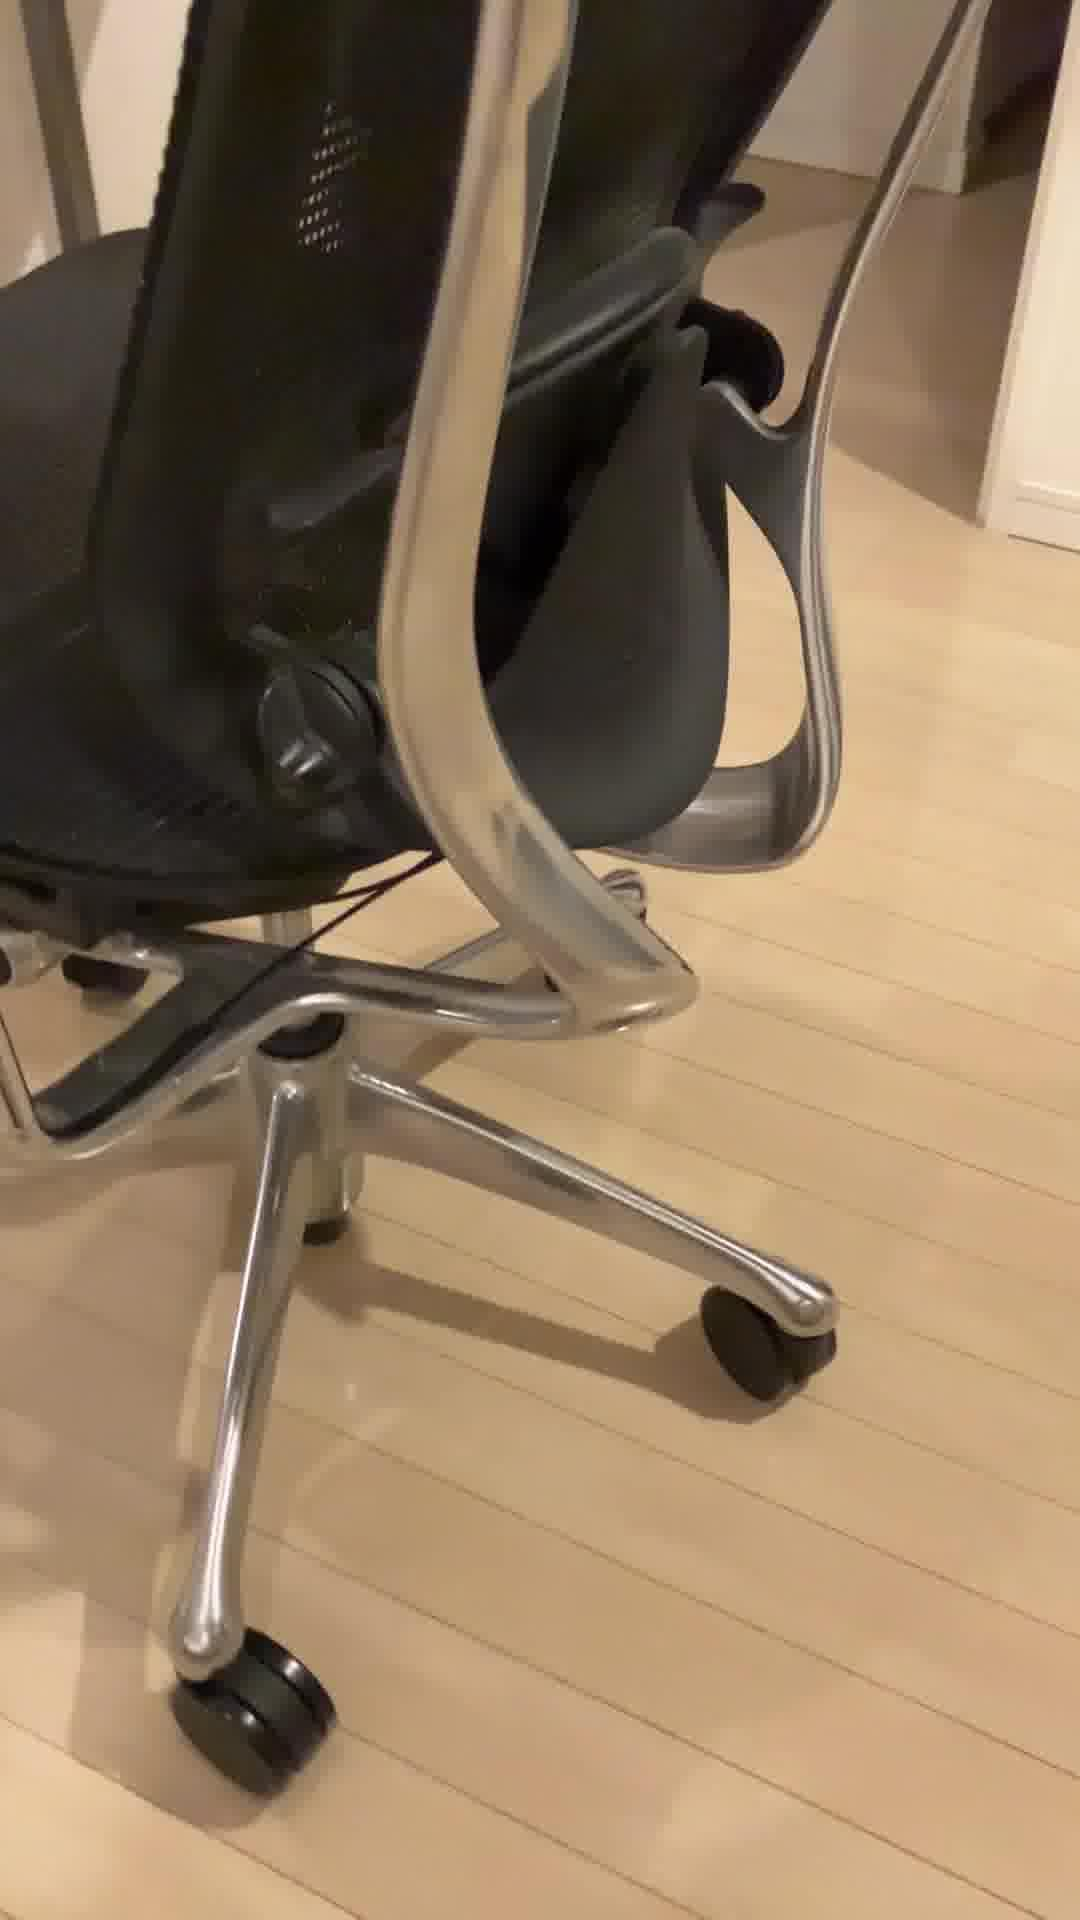okamura-contessa: (0, 0, 993, 1796)
